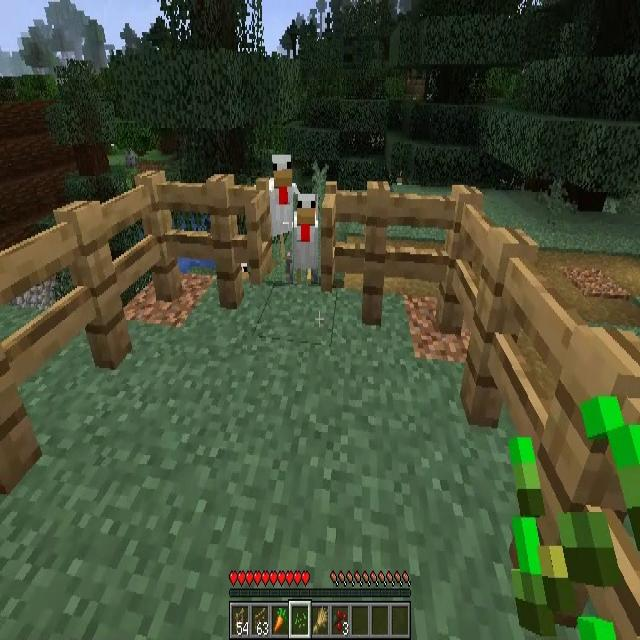duck: (268, 153, 300, 237), (293, 194, 318, 284)
